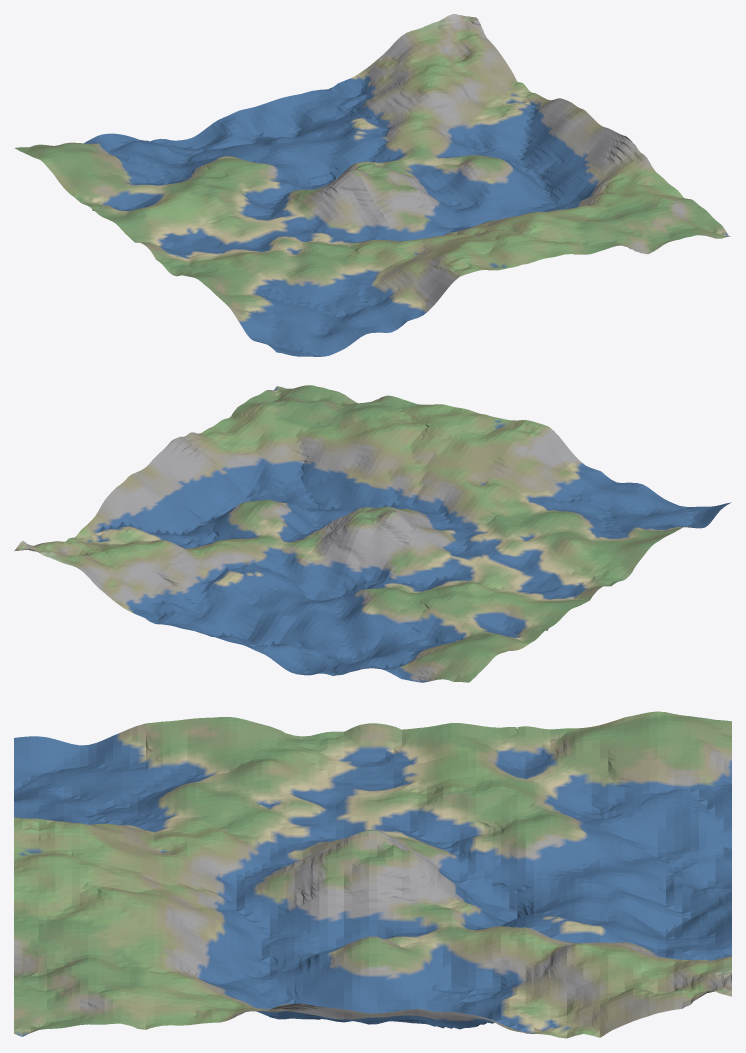
The model's file is terrain-generator-export-2.glb.
3 views of the same model, one above another, from view 1: azimuth 30°, elevation 25°; view 2: azimuth 150°, elevation 25°; view 3: azimuth 270°, elevation 25° (orthographic). The views are drawn at different scales.
Bounding box in the file's own units: 1200 × 160 × 1200.
